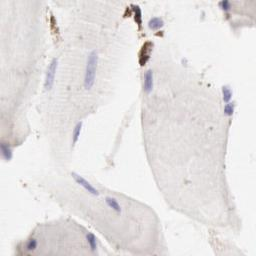nucleus: (70, 171, 97, 195), (83, 52, 98, 89), (45, 57, 58, 90), (71, 121, 83, 145), (105, 196, 120, 212), (221, 83, 233, 102), (1, 143, 13, 162), (148, 17, 164, 28), (223, 103, 236, 116), (146, 70, 153, 94), (87, 233, 96, 249), (28, 239, 37, 249), (220, 1, 230, 9), (136, 8, 142, 16)
positive_cell: (138, 41, 155, 67), (132, 4, 144, 31), (150, 17, 165, 37)
